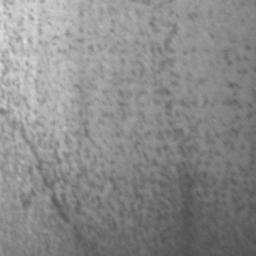Pitted surface: (0, 0, 256, 256), (224, 45, 256, 74), (0, 219, 28, 244), (234, 192, 256, 213), (187, 6, 199, 22)
